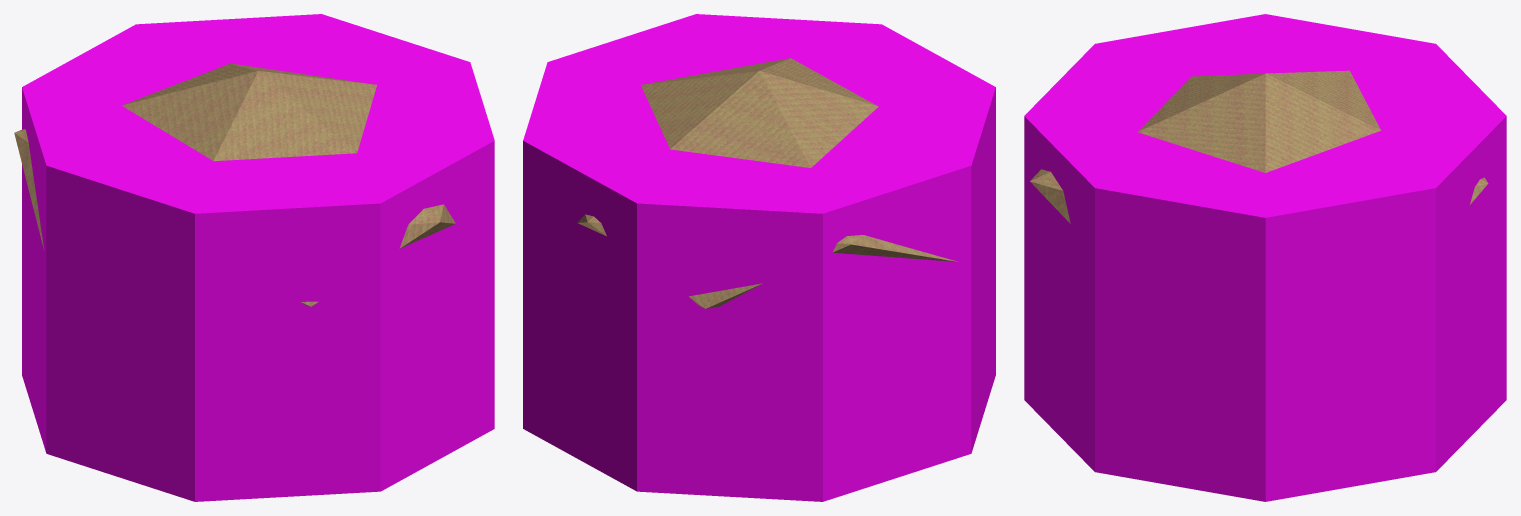
Rendered from rock_med_tan_b.dae.
The picture shows the model from 3 angles, left to right: view 1: azimuth 30°, elevation 25°; view 2: azimuth 150°, elevation 25°; view 3: azimuth 270°, elevation 25°; orthographic projection.
Visible parts, largest first — view 1: Colmesh_rock-1, rock_med_tan_b_a800; view 2: Colmesh_rock-1, rock_med_tan_b_a800; view 3: Colmesh_rock-1, rock_med_tan_b_a800.
Boxes of the visible parts, <box> form: Colmesh_rock-1: <box>22,14,494,501</box>; rock_med_tan_b_a800: <box>14,63,455,306</box>; Colmesh_rock-1: <box>523,14,995,501</box>; rock_med_tan_b_a800: <box>577,58,959,308</box>; Colmesh_rock-1: <box>1024,14,1506,501</box>; rock_med_tan_b_a800: <box>1030,70,1488,223</box>.
Bounding box in the file's own units: 1.17 × 1.17 × 0.8736.
Materials: 2 (1 with a texture image).
